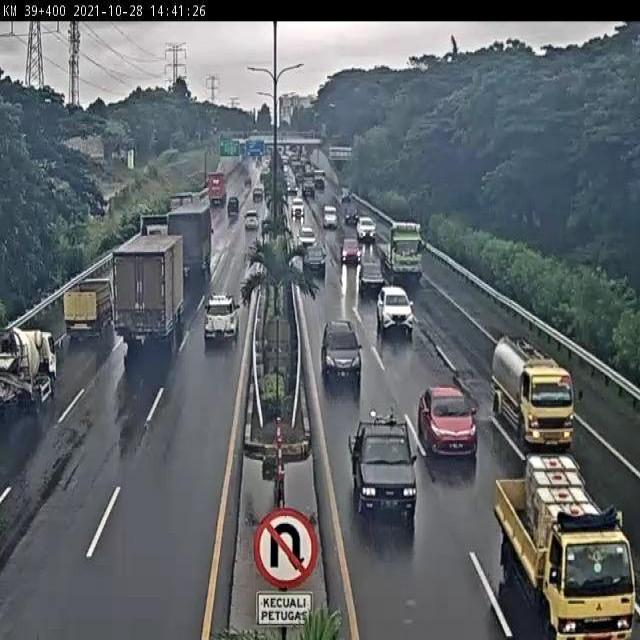big truck: (130, 212, 168, 259)
car: (348, 411, 418, 518), (418, 384, 478, 456), (320, 320, 362, 384), (377, 285, 414, 335), (203, 294, 239, 342), (358, 258, 385, 294), (303, 245, 326, 278), (340, 237, 362, 264)
mid truck: (112, 233, 185, 336), (167, 205, 213, 275), (376, 221, 424, 279)
small truck: (493, 457, 640, 640), (62, 279, 114, 336)
truck-m-: (494, 332, 577, 445)
